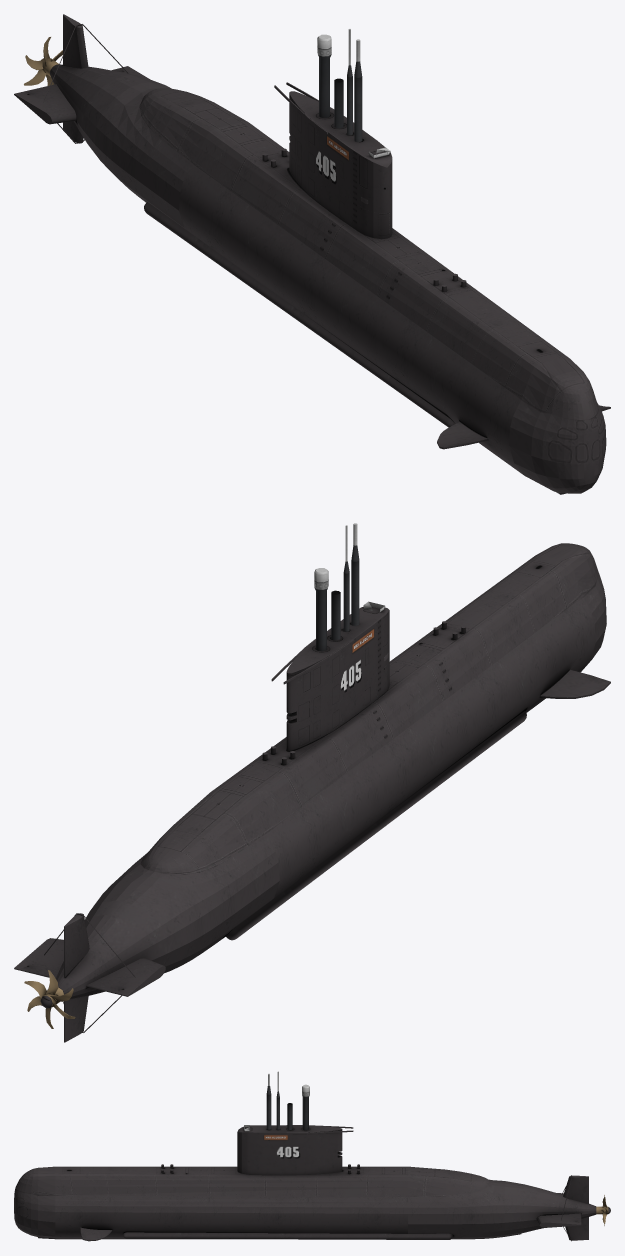
File: KRI 405.fbx
3 views of the same model, one above another, from view 1: azimuth 30°, elevation 25°; view 2: azimuth 150°, elevation 25°; view 3: azimuth 270°, elevation 25° (orthographic). The views are drawn at different scales.
Parts seen in each view (by area): view 1: Bodi_NagapasaClass, Propeller; view 2: Bodi_NagapasaClass, Propeller; view 3: Bodi_NagapasaClass.
Part boxes in pixels (x1=…): Bodi_NagapasaClass: x1=14, y1=14, x2=610, y2=494; Propeller: x1=24, y1=37, x2=62, y2=85; Bodi_NagapasaClass: x1=14, y1=523, x2=610, y2=1042; Propeller: x1=24, y1=970, x2=75, y2=1028; Bodi_NagapasaClass: x1=14, y1=1071, x2=596, y2=1241.
Bounding box in the file's own units: 11.02 × 62.3 × 19.51.
Materials: 1 (1 with a texture image).
